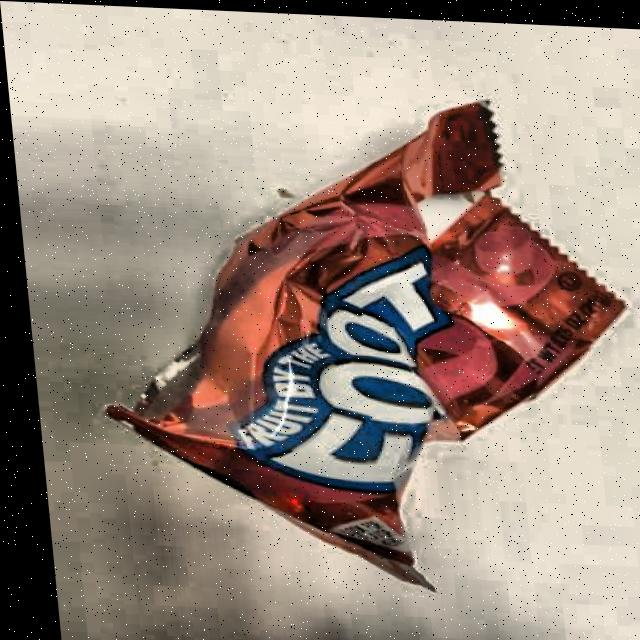trash: (62, 74, 640, 599)
